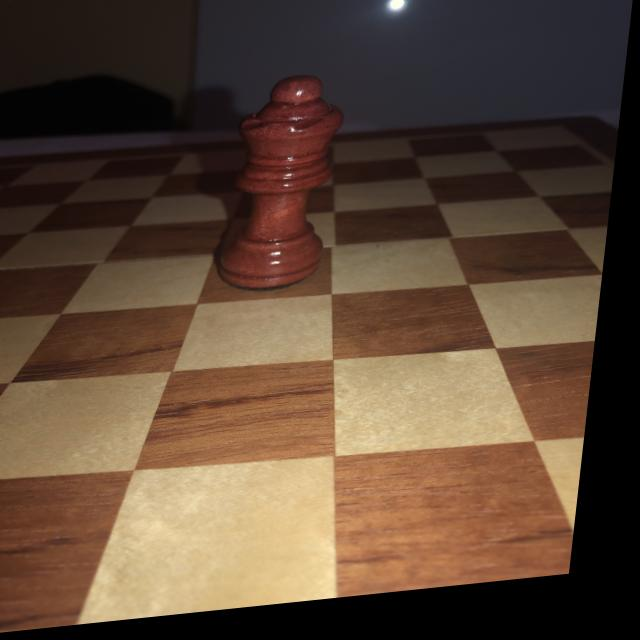black_queen: (219, 74, 355, 304)
